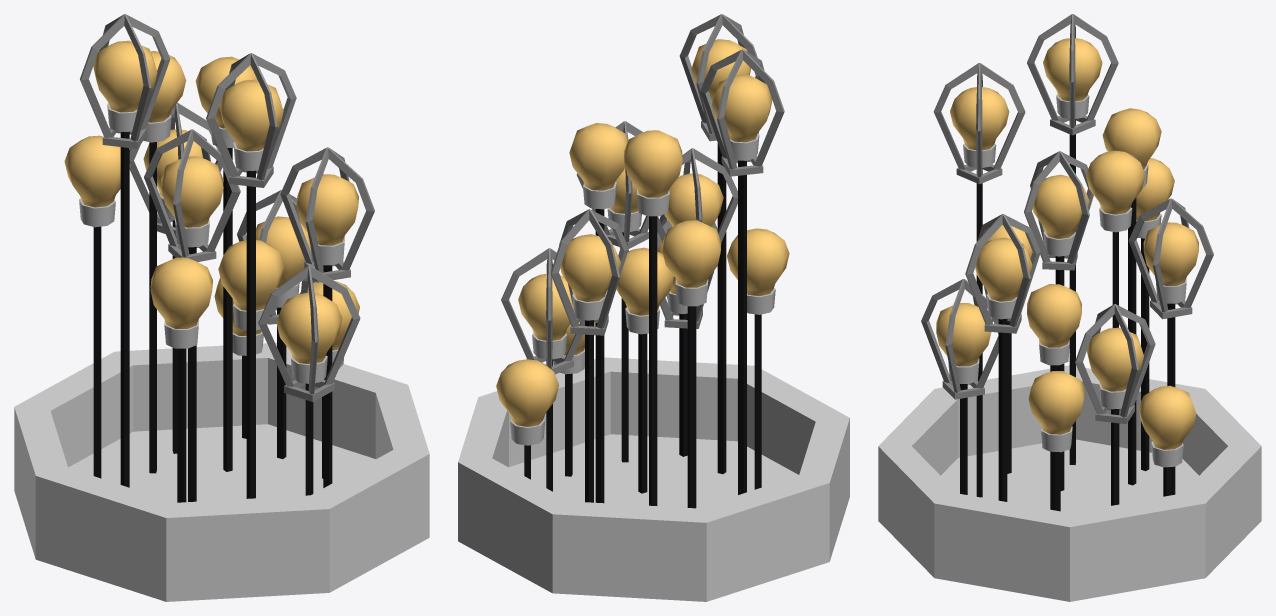
The model's file is Chandelier-Small_Hotel_01.fbx.
3 renders of one model, left to right at view 1: azimuth 30°, elevation 25°; view 2: azimuth 150°, elevation 25°; view 3: azimuth 270°, elevation 25°, orthographic. The views are drawn at different scales.
Visible parts, largest first — view 1: Chandelier_bulb_012, Chandelier_Small_Base; view 2: Chandelier_bulb_012, Chandelier_Small_Base; view 3: Chandelier_bulb_012, Chandelier_Small_Base.
Boxes of the visible parts, <box> form: Chandelier_bulb_012: <box>64,14,374,502</box>; Chandelier_Small_Base: <box>14,342,429,601</box>; Chandelier_bulb_012: <box>496,14,789,508</box>; Chandelier_Small_Base: <box>458,357,849,601</box>; Chandelier_bulb_012: <box>921,14,1213,511</box>; Chandelier_Small_Base: <box>878,365,1261,601</box>.
Size of the model in its own units: 2.05 by 2.74 by 2.05.
